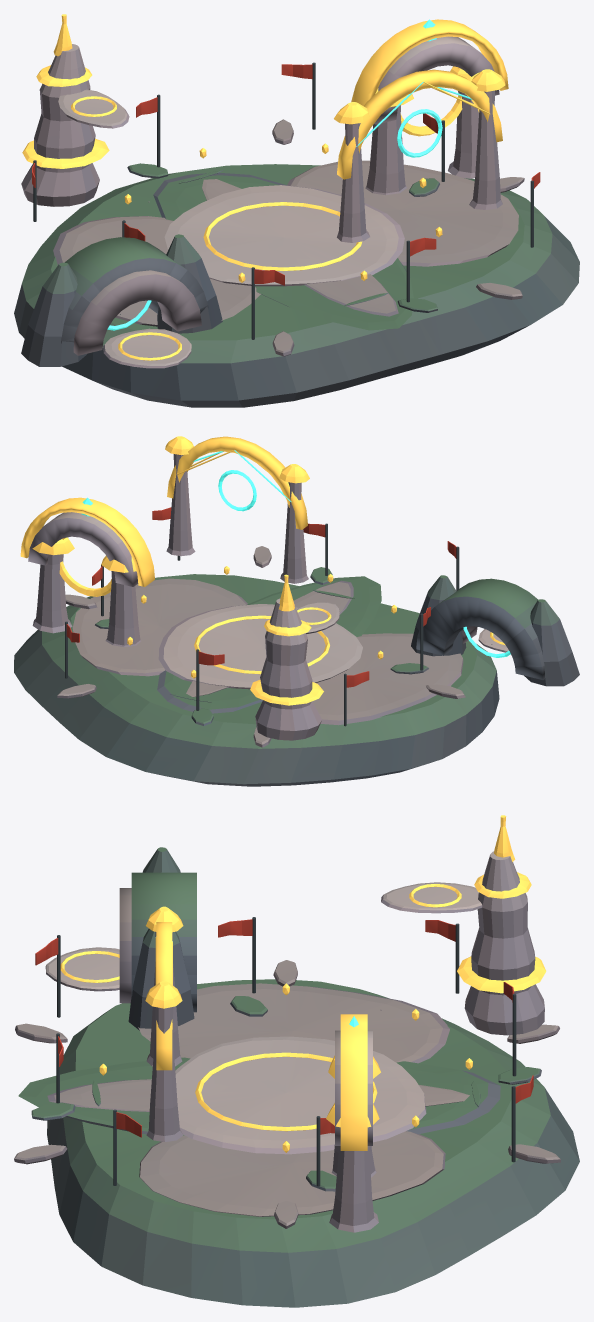
Rendered from festival-hub-low.glb.
The picture shows the model from 3 angles, top to bottom: view 1: azimuth 30°, elevation 25°; view 2: azimuth 150°, elevation 25°; view 3: azimuth 270°, elevation 25°; orthographic projection. The views are drawn at different scales.
Visible parts, largest first — view 1: FestivalAirfield, LandingPad, SecretGrotto, FestivalAccents, RaceArch, FestivalTower, WindLoom, FestivalFlags; view 2: FestivalAirfield, FestivalAccents, SecretGrotto, LandingPad, RaceArch, FestivalTower, WindLoom, FestivalFlags; view 3: FestivalAirfield, LandingPad, FestivalAccents, SecretGrotto, FestivalTower, FestivalFlags, RaceArch, WindLoom.
Boxes of the visible parts, box(x1,y1,x2,y2) form: FestivalAirfield: box(14, 119, 579, 407); LandingPad: box(58, 89, 404, 368); SecretGrotto: box(21, 234, 222, 366); FestivalAccents: box(22, 14, 508, 360); RaceArch: box(365, 36, 499, 195); FestivalTower: box(21, 44, 149, 206); WindLoom: box(337, 90, 502, 242); FestivalFlags: box(32, 62, 540, 339); FestivalAirfield: box(14, 546, 499, 786); FestivalAccents: box(20, 436, 510, 705); SecretGrotto: box(411, 575, 579, 686); LandingPad: box(158, 602, 508, 689); RaceArch: box(28, 512, 140, 647); FestivalTower: box(255, 598, 321, 740); WindLoom: box(166, 454, 308, 583); FestivalFlags: box(65, 507, 459, 726); FestivalAirfield: box(14, 960, 579, 1307); LandingPad: box(45, 882, 482, 1154); FestivalAccents: box(60, 815, 546, 1150); SecretGrotto: box(119, 847, 196, 1030); FestivalTower: box(380, 851, 544, 1035); FestivalFlags: box(35, 917, 533, 1186); RaceArch: box(329, 1030, 378, 1232); WindLoom: box(146, 932, 182, 1141).
Bounding box in the file's own units: 113 × 55 × 83.51.
